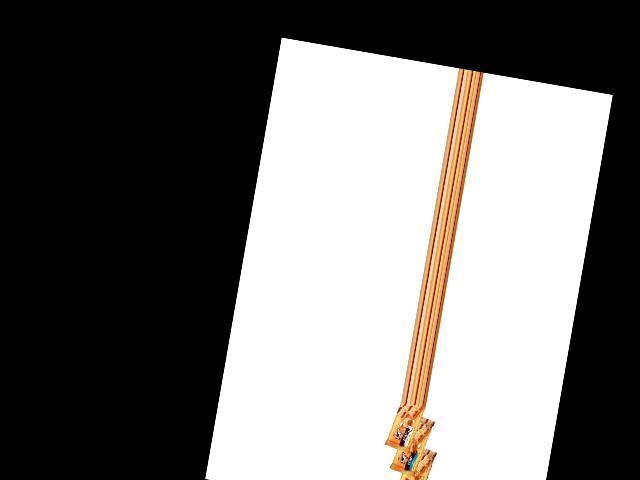chocolate: (394, 440, 435, 480)
